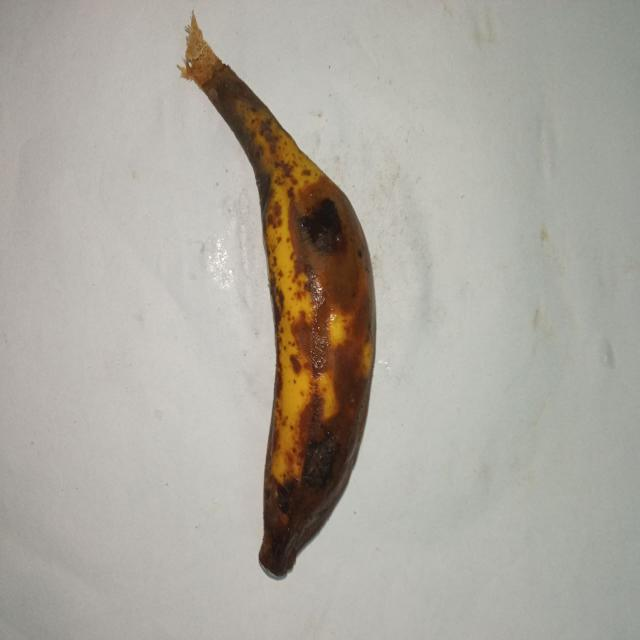rotten_banana: (199, 60, 378, 578)
